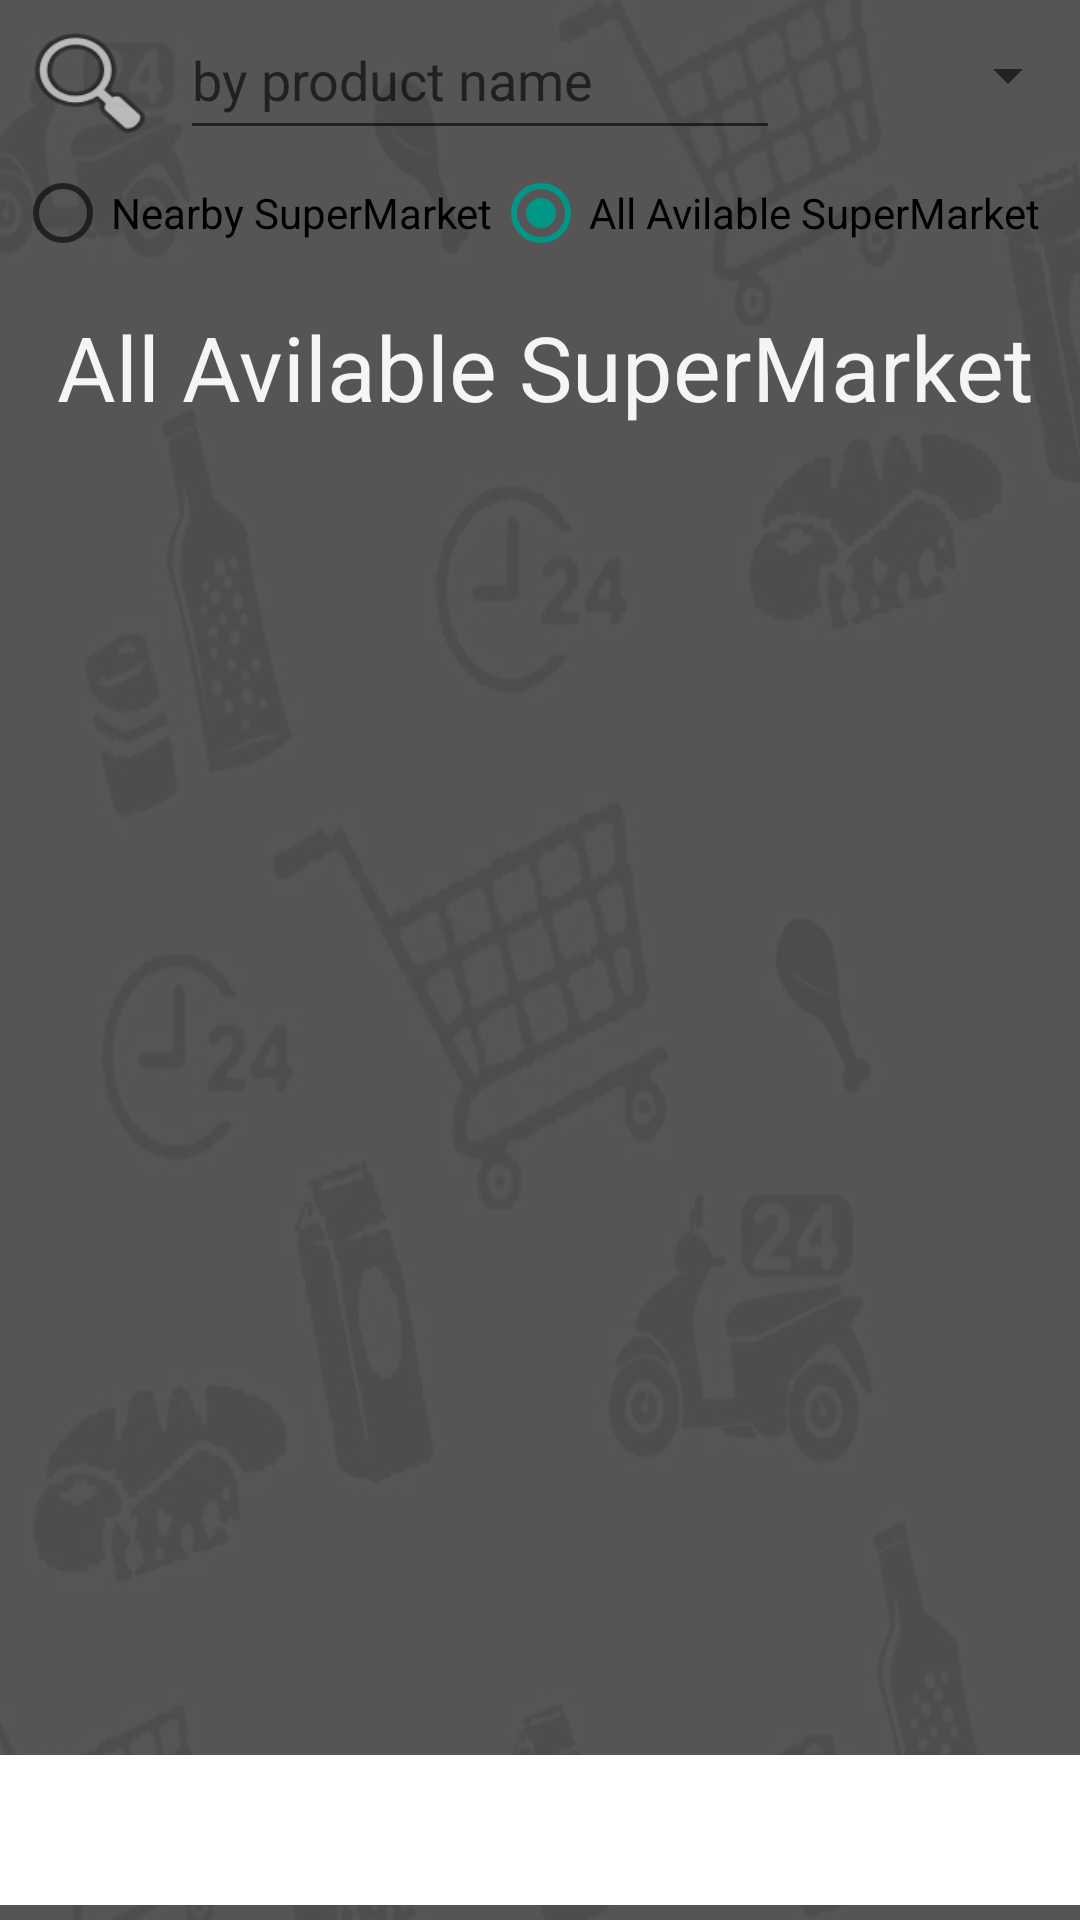

Named icons in this screenshot (1080 × 1920) and their centers, point (x, y):
search: point (90, 83)
